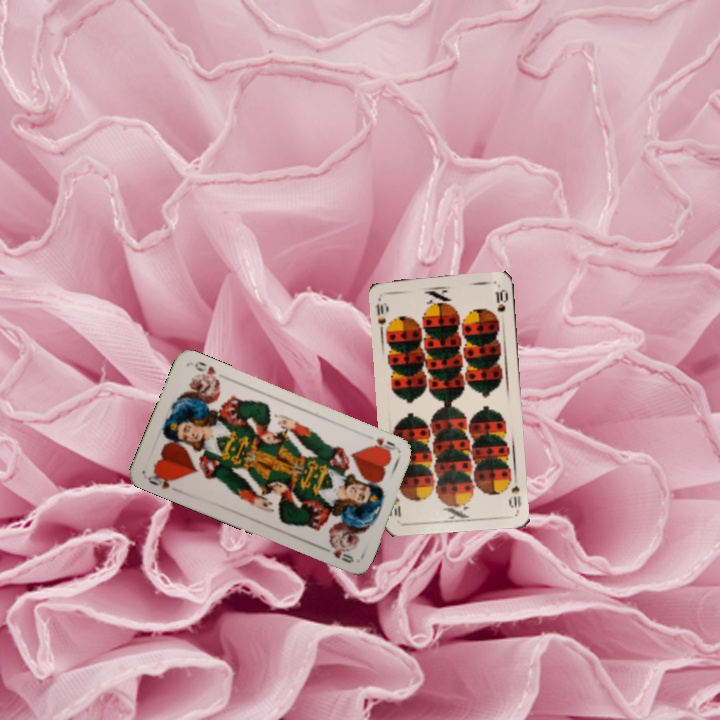HO: (144, 468, 179, 492), (367, 434, 402, 456)
S10: (372, 294, 391, 327), (505, 481, 524, 513)
